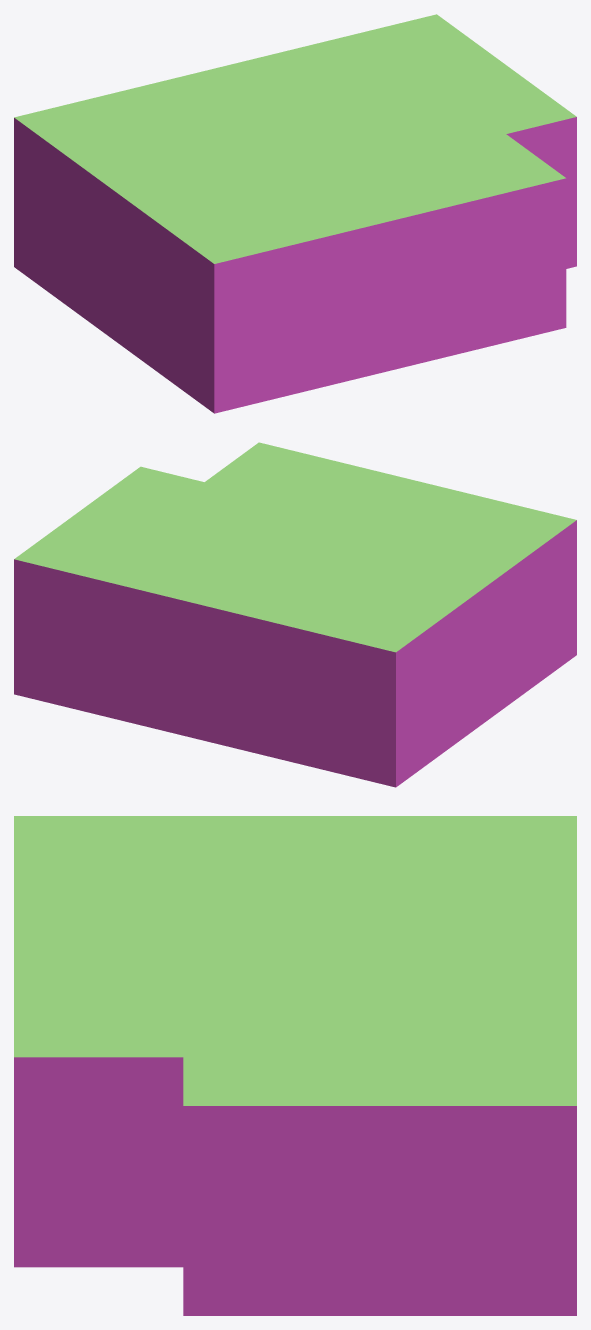
File: room.fbx
3 views of the same model, one above another, from view 1: azimuth 30°, elevation 25°; view 2: azimuth 150°, elevation 25°; view 3: azimuth 270°, elevation 25° (orthographic). The views are drawn at different scales.
Visible parts, largest first — view 1: Room; view 2: Room; view 3: Room.
Part boxes in pixels (x1,y1,x2,y2): Room: [14, 14, 576, 413]; Room: [14, 442, 576, 787]; Room: [14, 816, 576, 1315].
Bounding box in the file's own units: 428 × 145 × 352.
